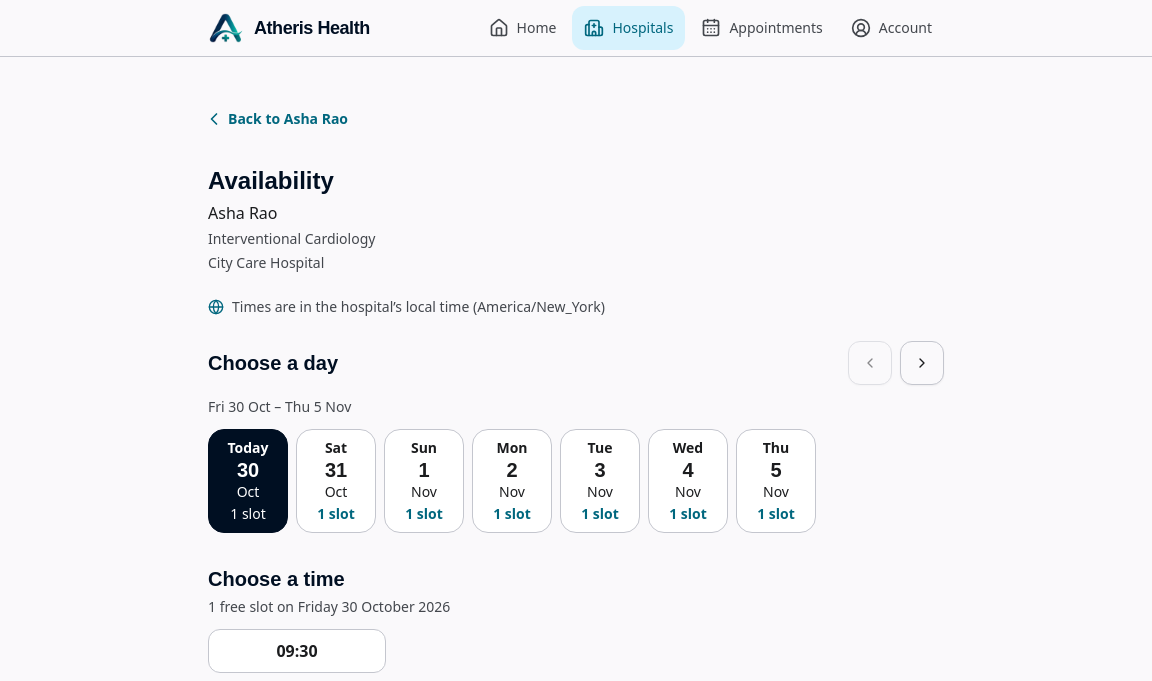
Test: doctor availability — what the server returned, on the hospital’s clock › HOSPITAL CLOCK — across a daylight-saving change, each day is on its own clock
Expected: the buttons read "09:30", in this order, [208,629,386,673]
Expected: the message reads "1 free slot on Friday 30 October 2026", [208,597,450,616]
Click the button with aria-label "Monday 2 November 2026" at (512, 481), box [472,429,552,533]
(page scrolled)
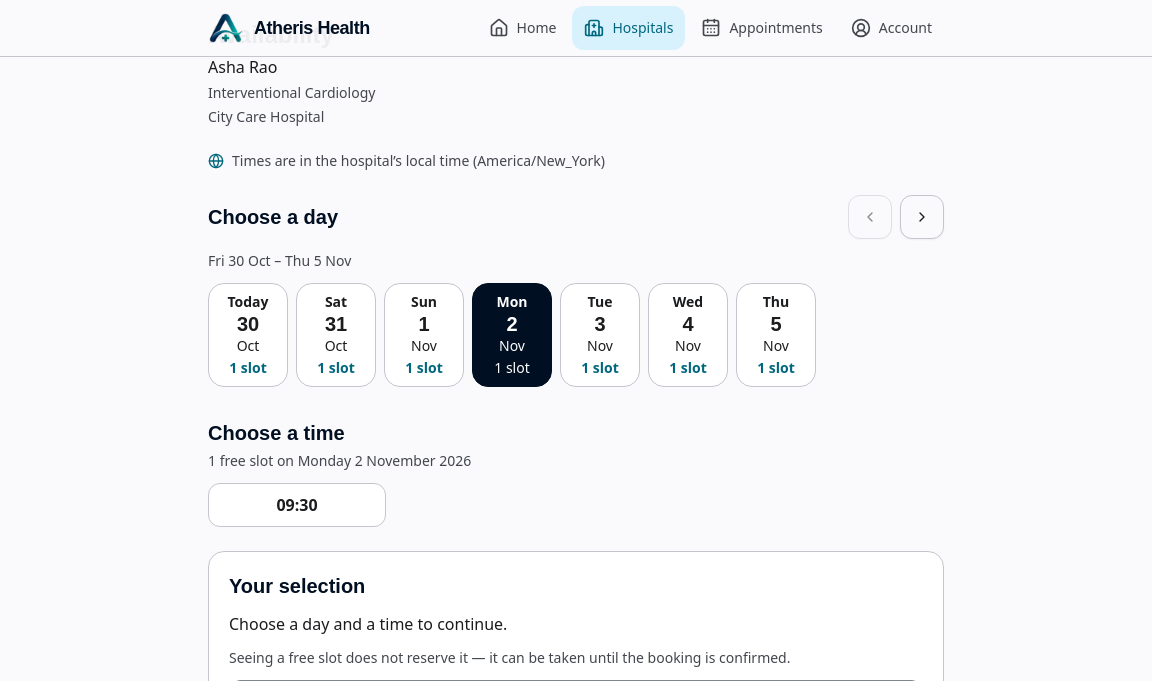
Expected: the buttons read "09:30", in this order, [208,483,386,527]
Result: the message reads "1 free slot on Monday 2 November 2026" at [208,451,471,470]
